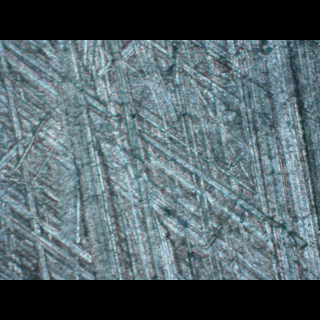d: (39, 40, 181, 278), (226, 41, 320, 280)
